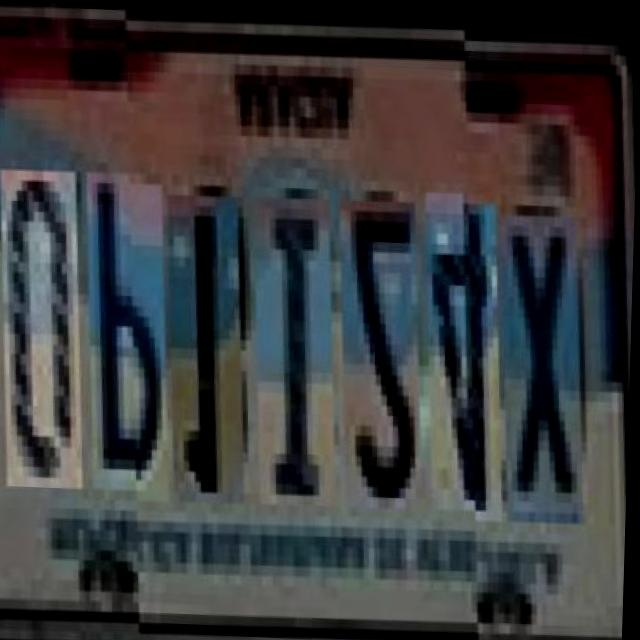0: (0, 179, 95, 500)
1: (167, 194, 255, 503)
2: (338, 197, 434, 507)
4: (424, 189, 515, 509)
i: (253, 196, 348, 506)
p: (86, 180, 182, 502)
x: (500, 201, 596, 511)
